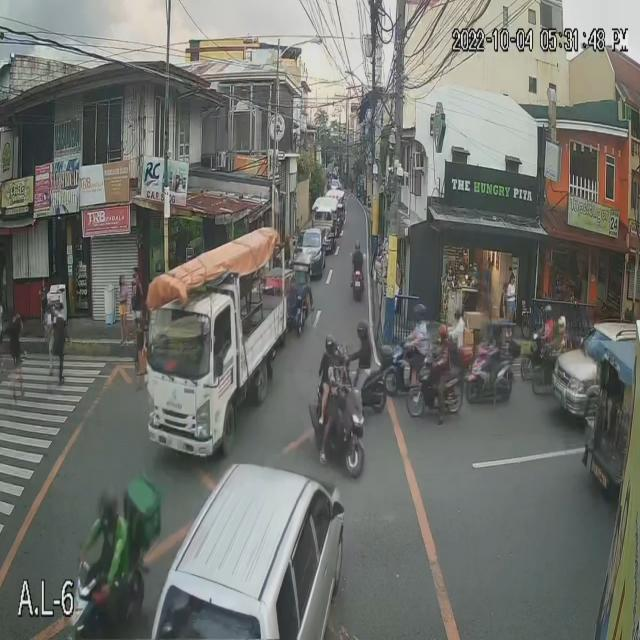full: (98, 486, 119, 532), (413, 300, 428, 327)
half: (356, 320, 368, 340)
